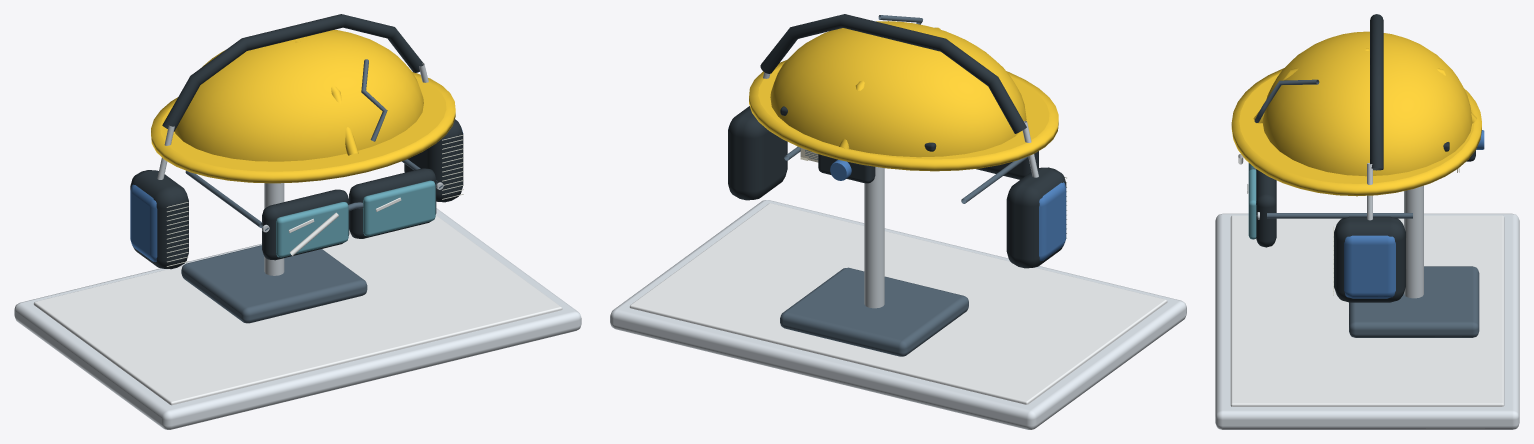
File: ppe-damaged.glb
3 views of the same model, side by side, from view 1: azimuth 30°, elevation 25°; view 2: azimuth 150°, elevation 25°; view 3: azimuth 270°, elevation 25° (orthographic). The views are drawn at different scales.
Parts seen in each view (by area): view 1: ppe-damaged; view 2: ppe-damaged; view 3: ppe-damaged.
Boxes of the visible parts, bbox=[...] form: ppe-damaged: bbox=[14, 14, 581, 429]; ppe-damaged: bbox=[610, 14, 1186, 429]; ppe-damaged: bbox=[1215, 14, 1519, 429].
Size of the model in its own units: 0.77 by 0.5209 by 0.49.
